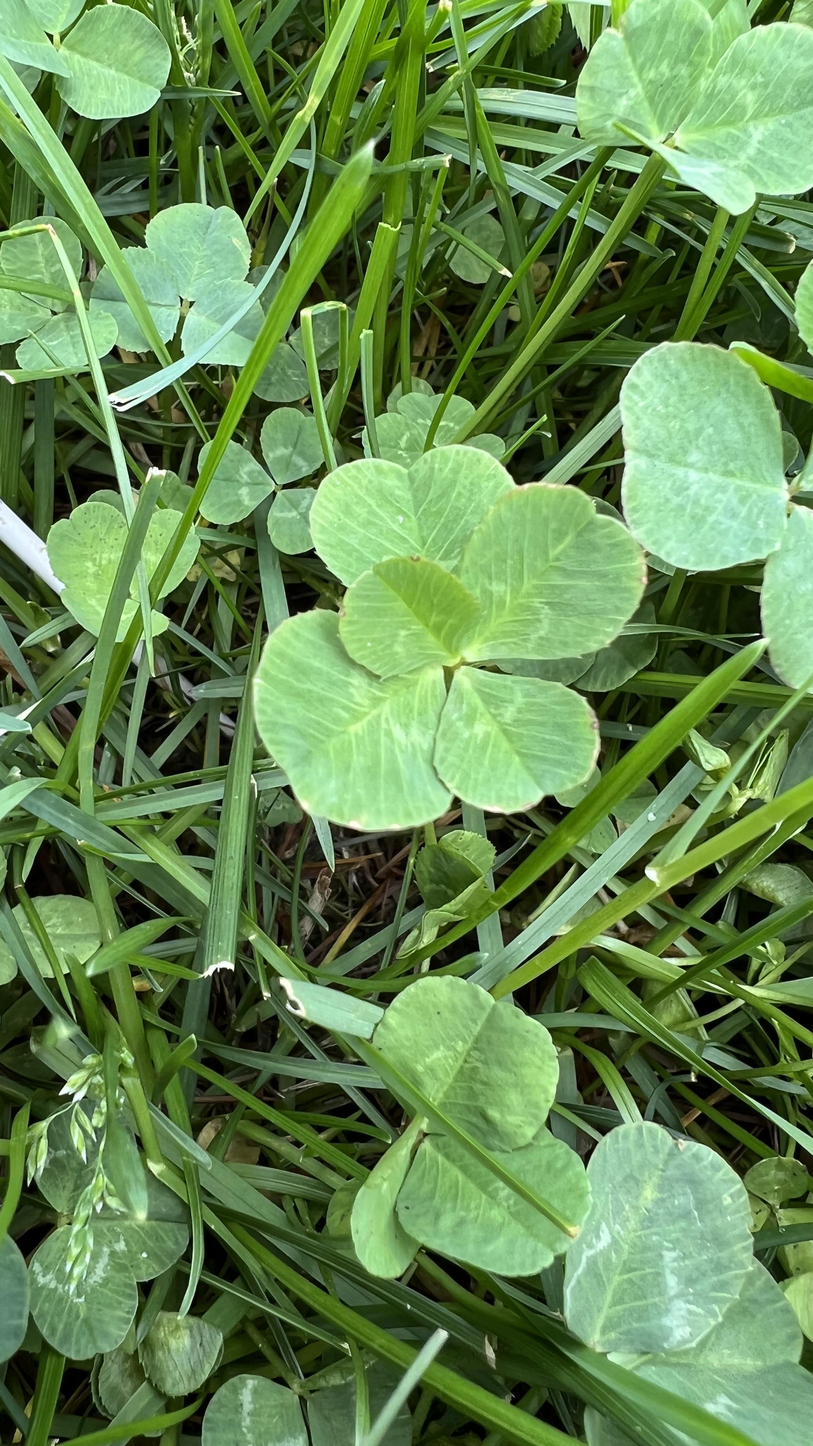5-Leaf-Clovers: (255, 452, 647, 838)
